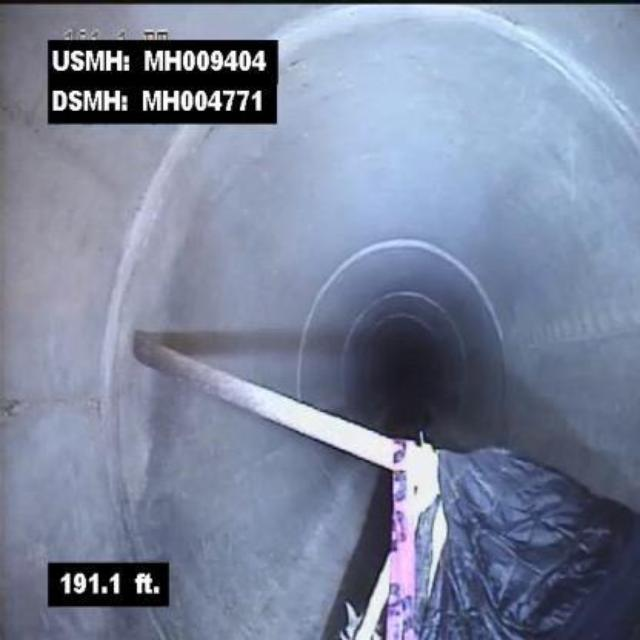Utility intrusion: (129, 328, 395, 478)
